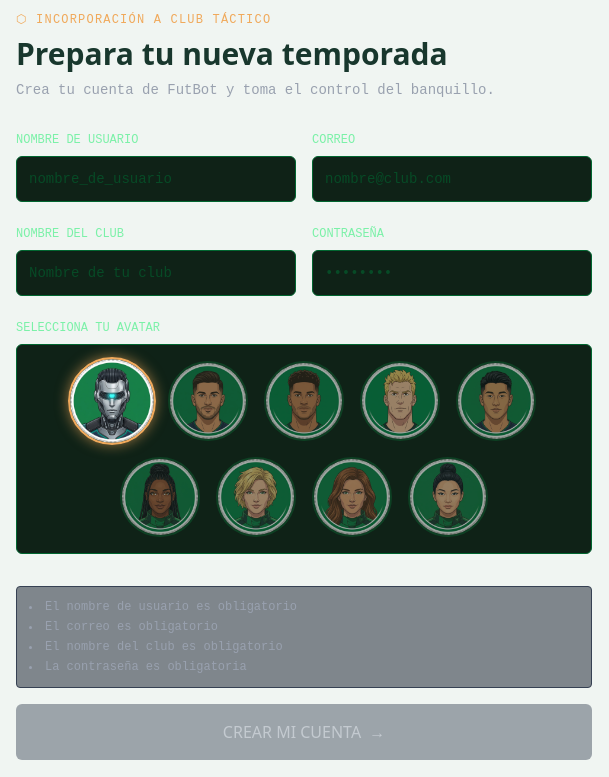
Test case: RegisterForm › Debe mantener el botón deshabilitado si faltan datos
Expected: the button "CREAR MI CUENTA →" is disabled, [16,704,592,760]
Note: Agrego datos y verifico
Type "Transistores" into the field labelled "Nombre de usuario" at [156, 179], box [29,169,283,189]
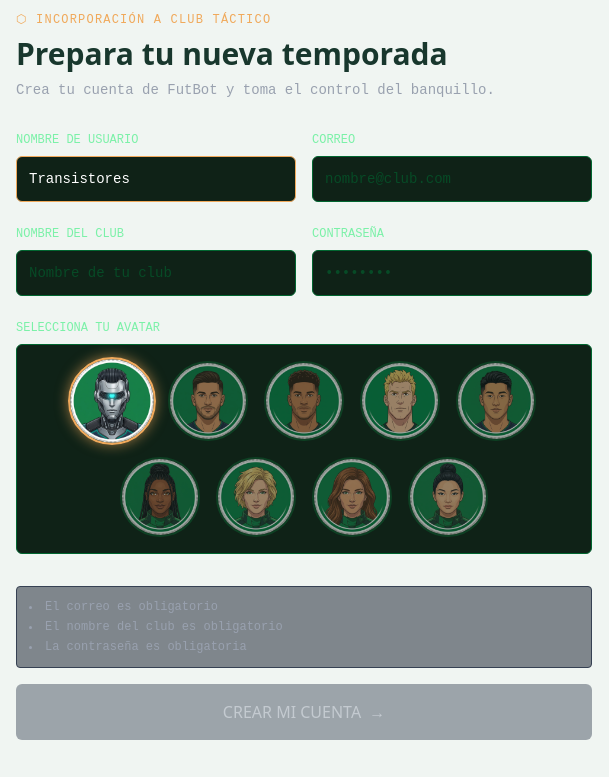
Expected: the button "CREAR MI CUENTA →" is disabled, [16,684,592,740]
Type "grupoTransistores@mail.com" into the field labelled "Correo" at [452, 179], box [325,169,579,189]
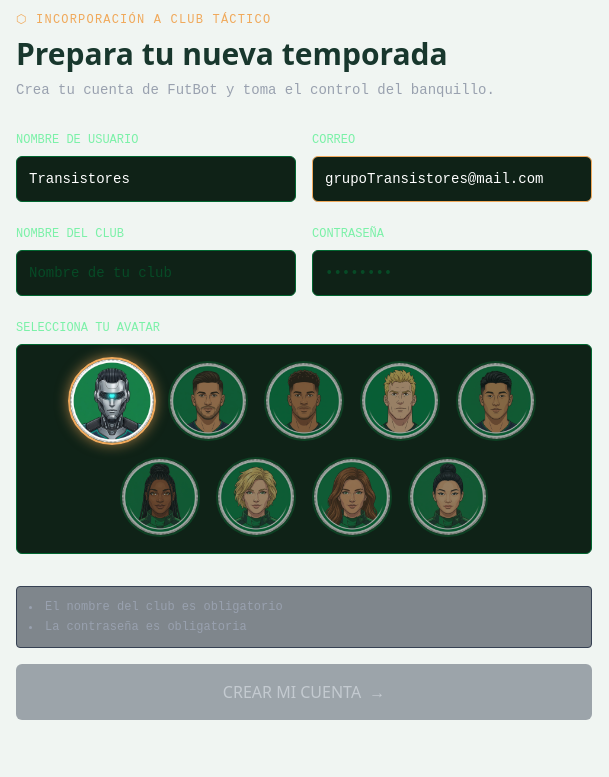
Expected: the button "CREAR MI CUENTA →" is disabled, [16,664,592,720]
Type "Los Transistores FC" into the field labelled "Nombre del Club" at [156, 273], box [29,263,283,283]
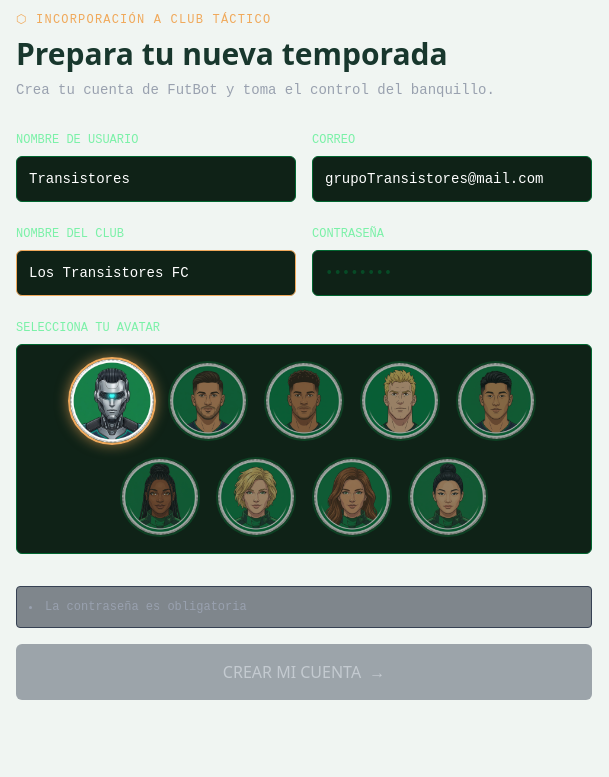
Expected: the button "CREAR MI CUENTA →" is disabled, [16,644,592,700]
Type "12345678" into the password field labelled "Contraseña" at [452, 273], box [325,263,579,283]
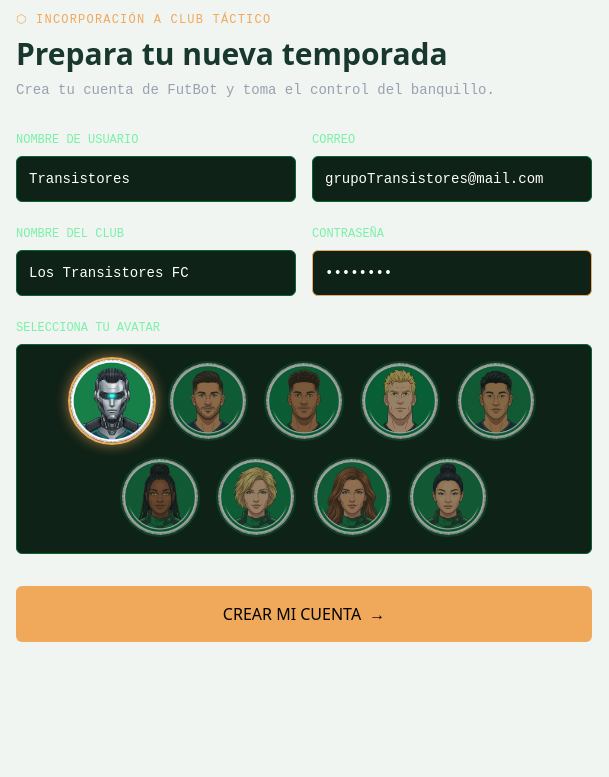
Result: the button "CREAR MI CUENTA →" is enabled at [16,586,592,642]
